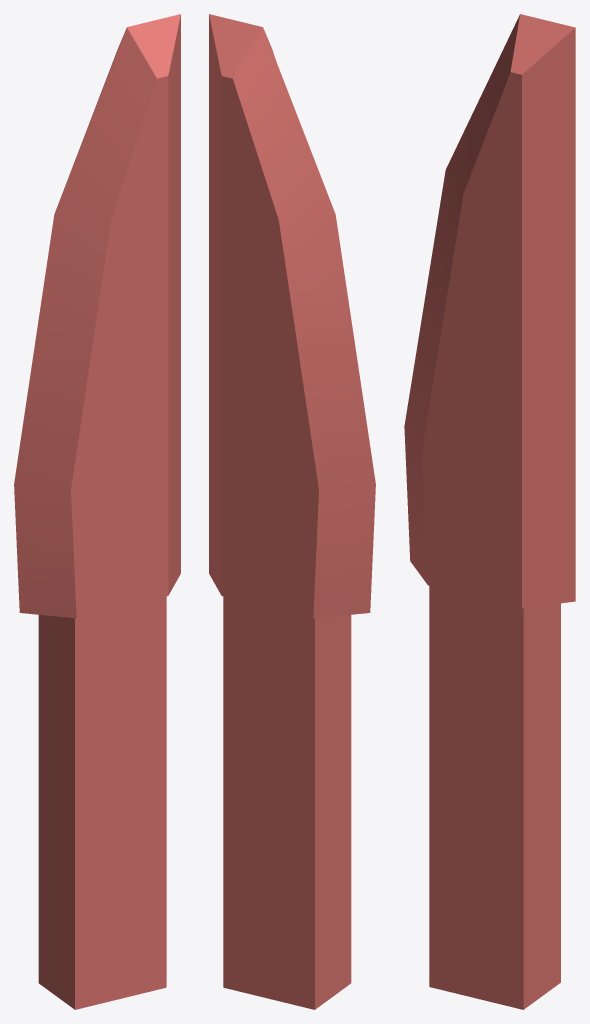
The model's file is 4 knife.fbx.
The picture shows the model from 3 angles, left to right: view 1: azimuth 30°, elevation 25°; view 2: azimuth 150°, elevation 25°; view 3: azimuth 330°, elevation 25°; orthographic projection. The views are drawn at different scales.
Visible parts, largest first — view 1: 4 knife; view 2: 4 knife; view 3: 4 knife.
Boxes of the visible parts, box(x1,y1,x2,y2) form: 4 knife: box(14, 14, 180, 1009); 4 knife: box(209, 14, 375, 1009); 4 knife: box(404, 14, 575, 1009).
Bounding box in the file's own units: 2.39 × 13.05 × 0.9839.
